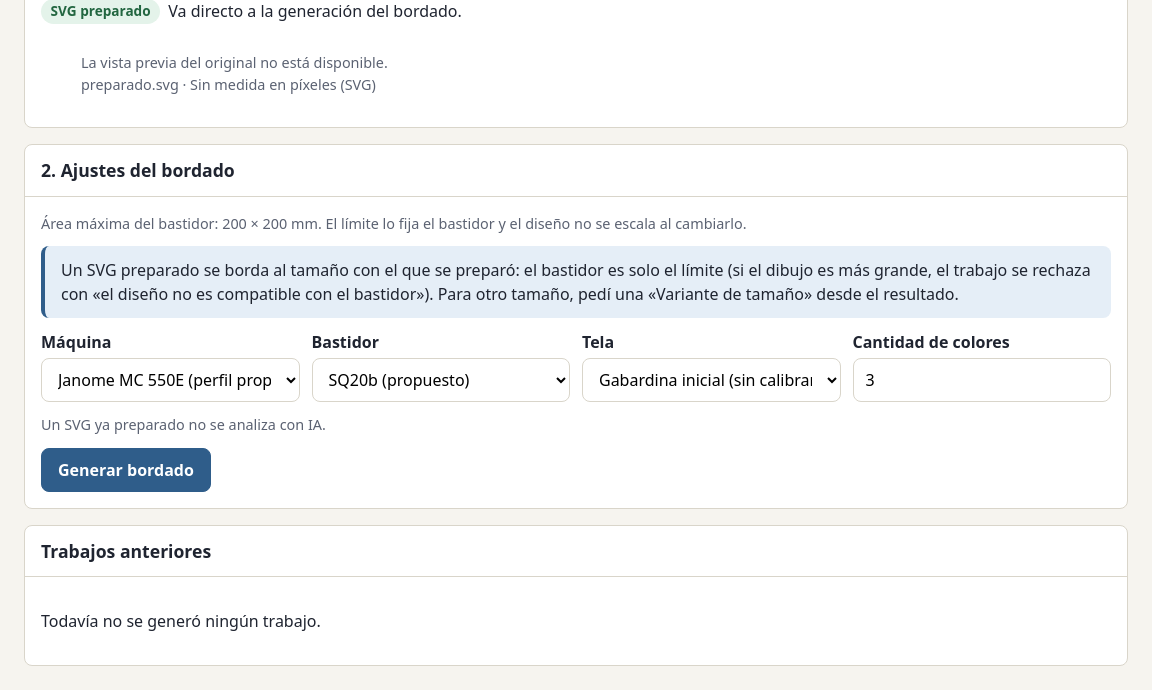
recorrido principal (cliente SIMULADO) › registra como omitidas las etapas de análisis y vectorización de un SVG preparado
Earlier steps of the test are not shown.
(page scrolled)
Expected: the text "preparado.svg · Sin medida en píxeles (SVG)" is shown, [81,75,376,94]
What coordinates should you click on to do the following:
click the button "Generar bordado"
I would click on:
 (126, 470)
Its box is [41,448,211,492].
(page scrolled)
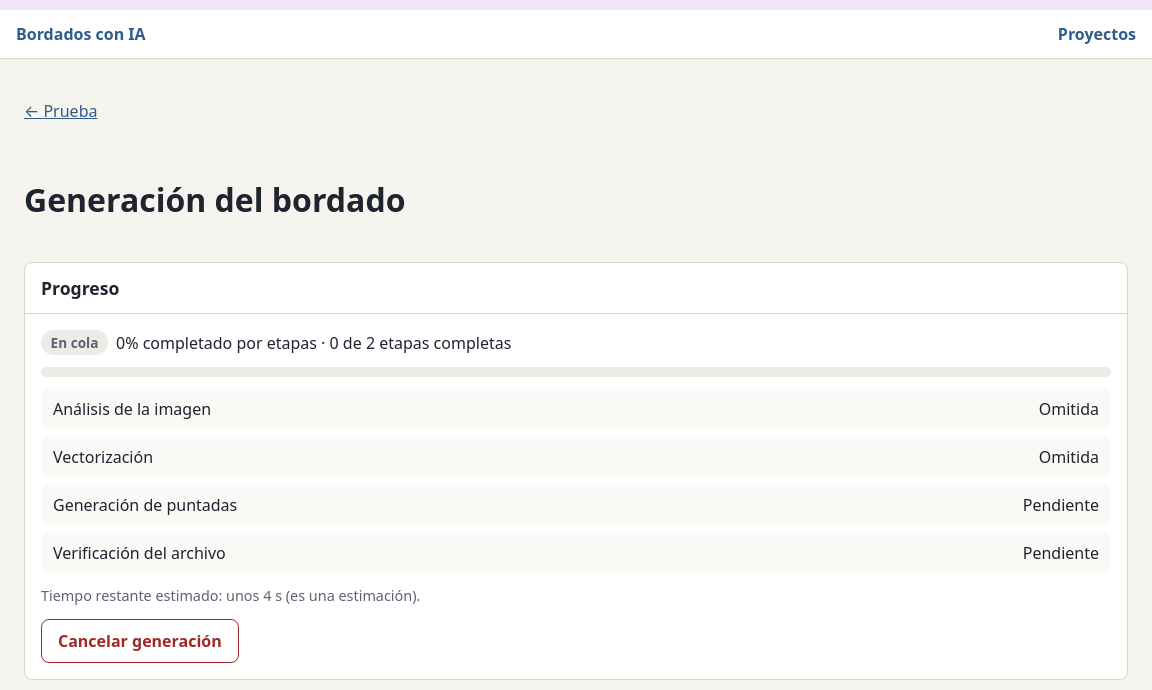
Expected: the heading "Generación del bordado" is shown, [24,178,406,221]
Expected: the text "Omitida" is shown 2 times, [1039,397,1099,421]; [1039,445,1099,469]
